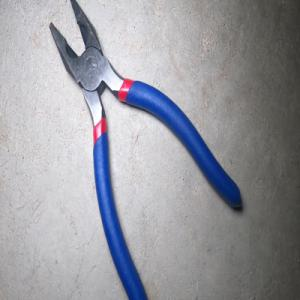Pliers: (49, 0, 242, 300)
